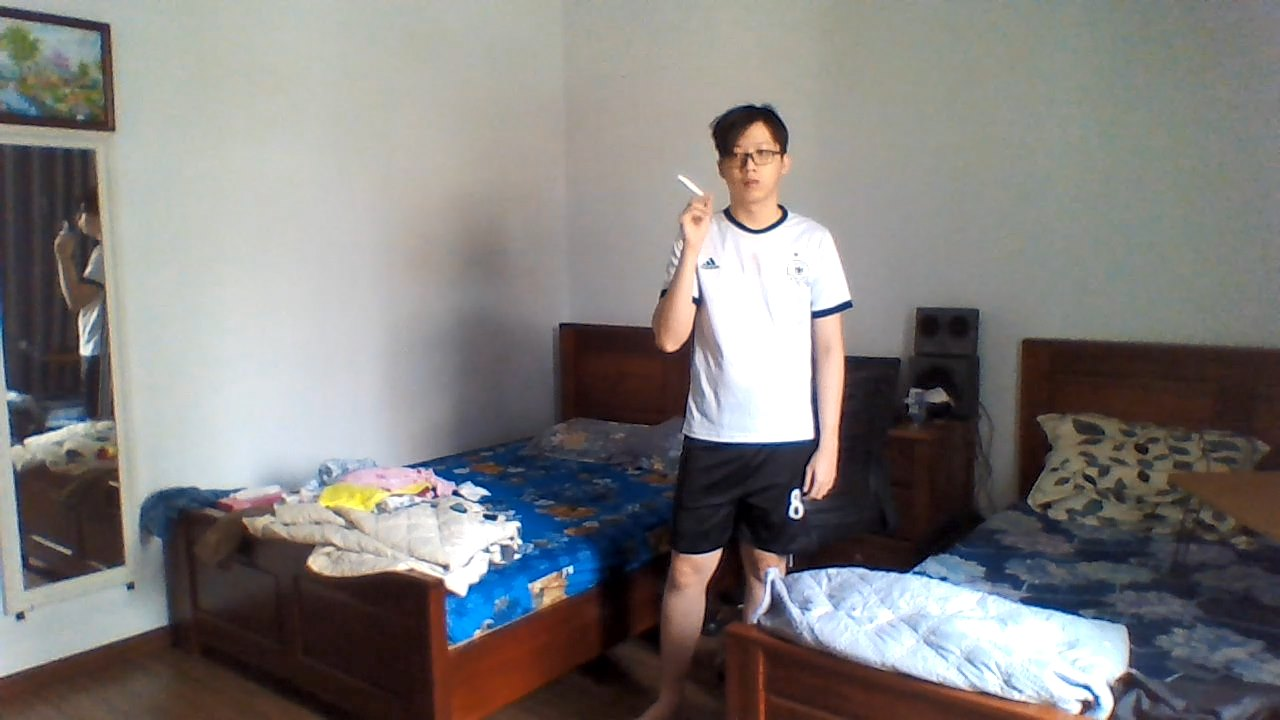cigarette: (674, 171, 705, 200)
person: (632, 98, 852, 579)
